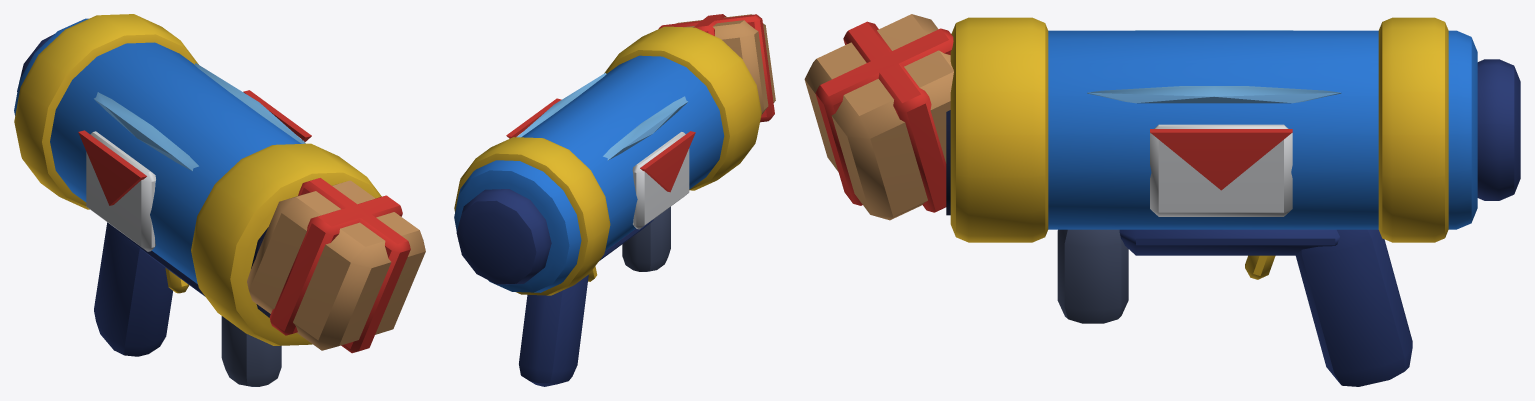
The model's file is w_j_parcel.glb.
The picture shows the model from 3 angles, left to right: view 1: azimuth 30°, elevation 25°; view 2: azimuth 150°, elevation 25°; view 3: azimuth 270°, elevation 25°; orthographic projection. The views are drawn at different scales.
Parts seen in each view (by area): view 1: body; view 2: body; view 3: body.
Part boxes in pixels (x1,y1,x2,y2): body: (14, 14, 425, 386); body: (454, 14, 775, 386); body: (804, 14, 1520, 386).
Bounding box in the file's own units: 0.2528 × 0.4395 × 0.8042.
